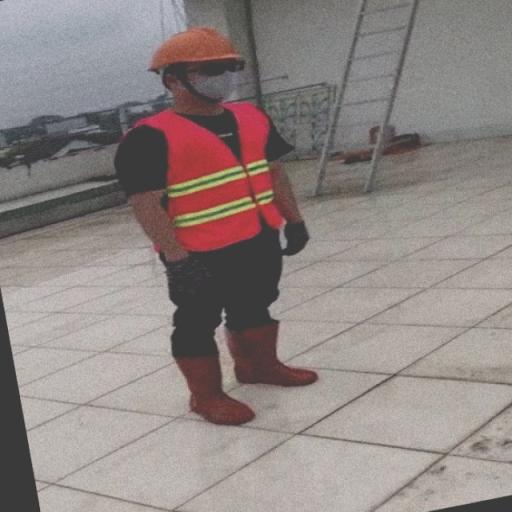Person: (84, 1, 370, 461)
boots: (156, 334, 260, 440), (220, 322, 330, 396)
gloves: (156, 255, 202, 309), (281, 216, 310, 257)
helmet: (140, 24, 242, 62)
vest: (131, 108, 298, 261)
